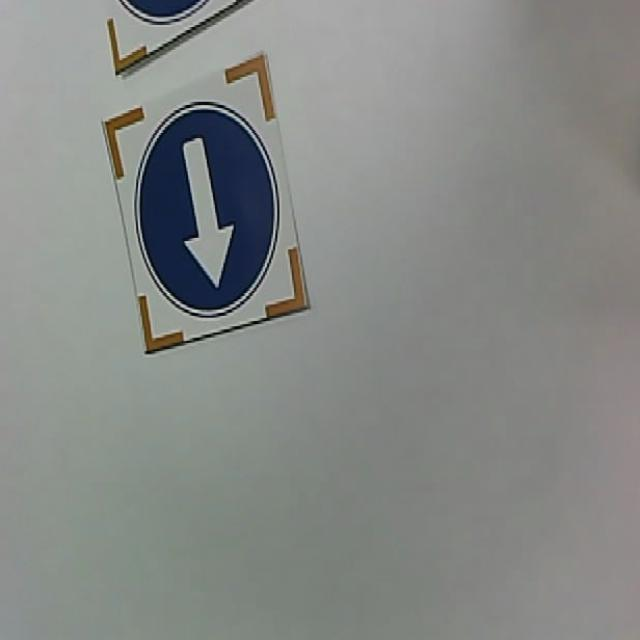straight: (72, 0, 329, 366)
